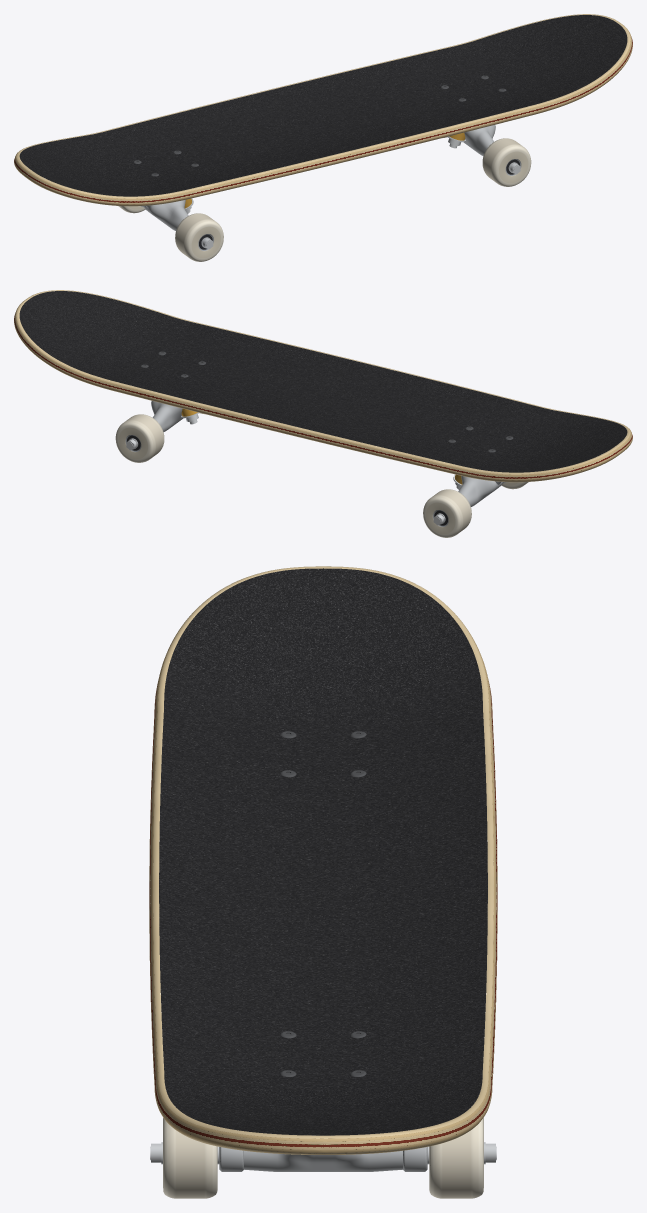
The model's file is board-high.glb.
3 renders of one model, top to bottom at view 1: azimuth 30°, elevation 25°; view 2: azimuth 150°, elevation 25°; view 3: azimuth 270°, elevation 25°, orthographic. The views are drawn at different scales.
Visible parts, largest first — view 1: Deck_Grip, Deck_Wood, Wheels, Truck_Aluminium, Truck_Steel; view 2: Deck_Grip, Deck_Wood, Wheels, Truck_Aluminium, Truck_Steel; view 3: Deck_Grip, Deck_Wood, Wheels, Truck_Aluminium, Truck_Steel.
Part boxes in pixels (x1,y1,x2,y2): Deck_Grip: (19, 15, 627, 196); Deck_Wood: (14, 14, 632, 206); Wheels: (118, 137, 531, 261); Truck_Aluminium: (141, 125, 495, 230); Truck_Steel: (133, 75, 520, 249); Deck_Grip: (19, 291, 627, 472); Deck_Wood: (14, 290, 632, 482); Wheels: (115, 413, 528, 537); Truck_Aluminium: (151, 401, 505, 506); Truck_Steel: (126, 351, 513, 525); Deck_Grip: (159, 568, 487, 1135); Deck_Wood: (149, 566, 497, 1154); Wheels: (163, 1108, 483, 1198); Truck_Aluminium: (219, 1135, 427, 1171); Truck_Steel: (150, 731, 496, 1164).
Size of the model in its own units: 0.8081 by 0.1295 by 0.2042.
Materials: 7 (4 with a texture image).
